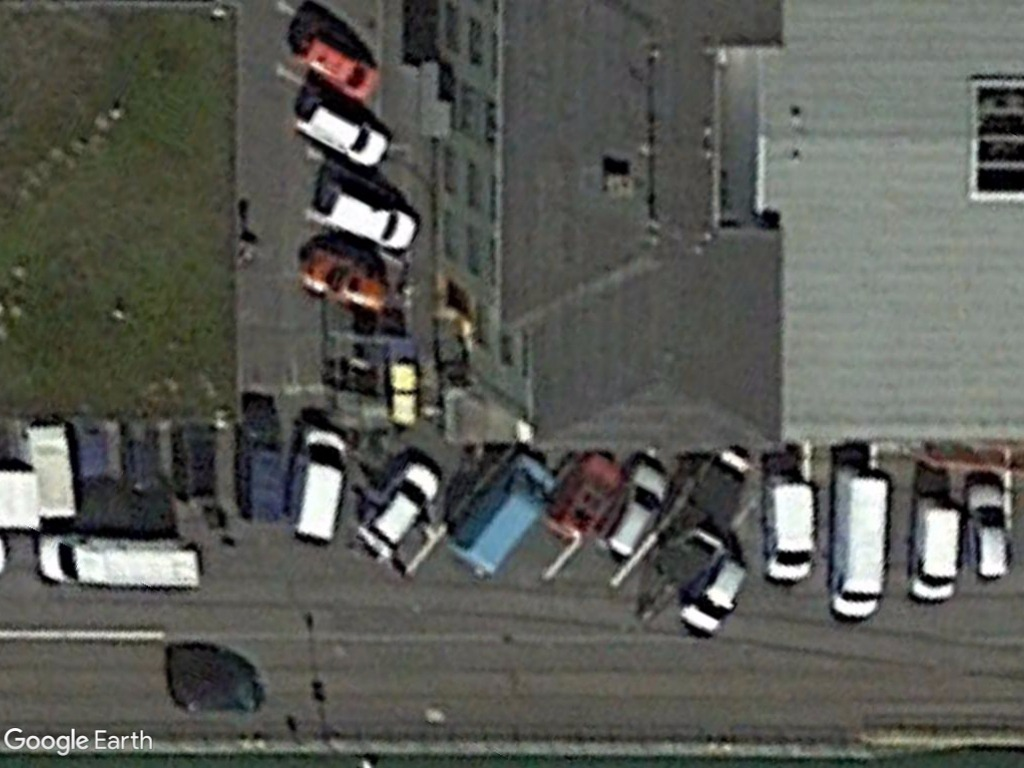car: (352, 462, 446, 560), (304, 178, 416, 253), (287, 23, 382, 104), (604, 457, 674, 565), (289, 98, 392, 170), (958, 477, 1009, 586)
van: (446, 453, 560, 579), (28, 528, 211, 601), (823, 460, 895, 627), (285, 420, 349, 547), (905, 490, 965, 612), (758, 472, 818, 587)
